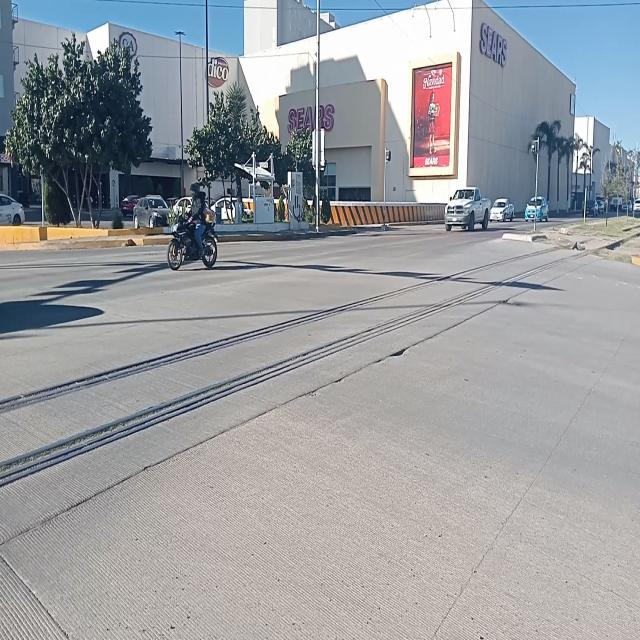Auto: (445, 180, 491, 230)
